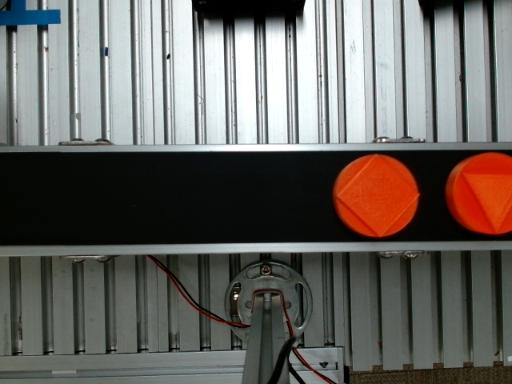Orange_Waper: (334, 154, 419, 237), (446, 152, 511, 234)
Square: (335, 154, 421, 237)
